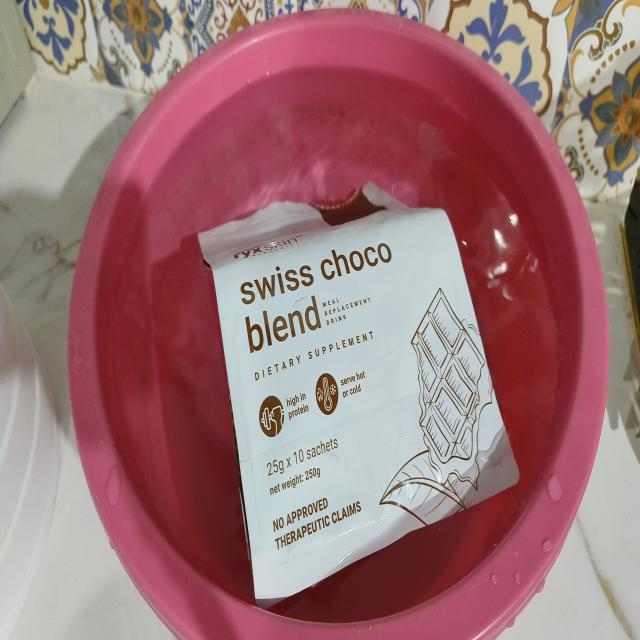Plastic Pouch: (199, 203, 519, 586)
